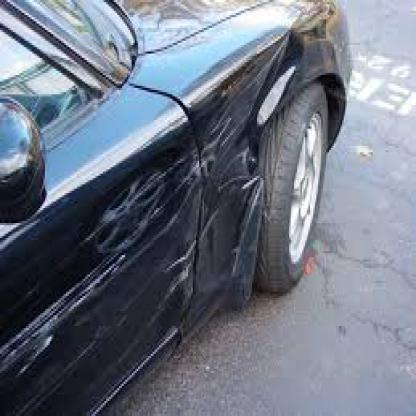dent: (262, 34, 302, 108)
